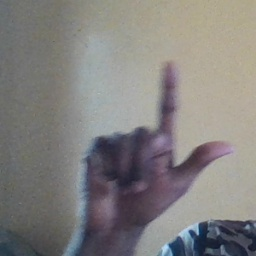L: (76, 60, 236, 228)
